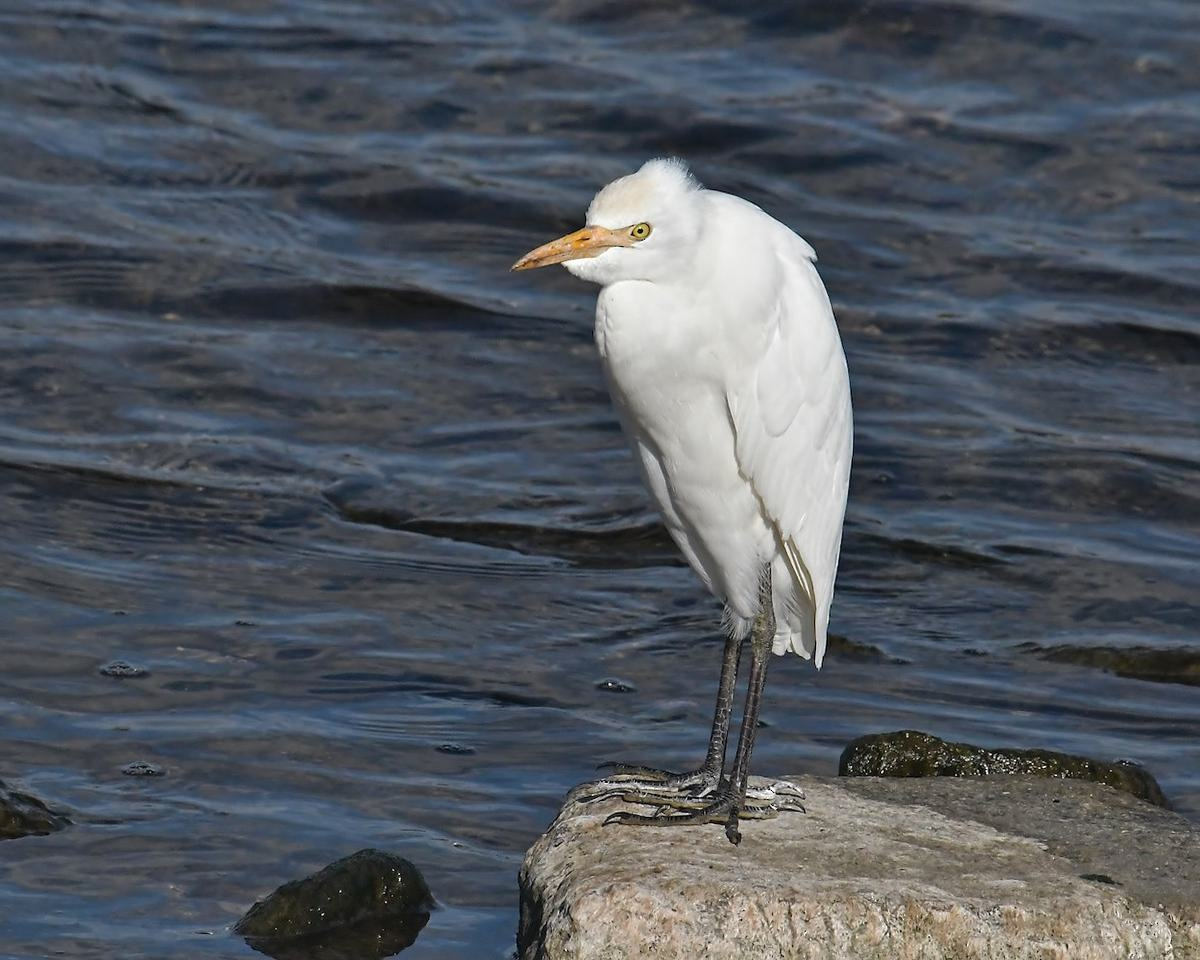egret: (535, 152, 889, 861)
